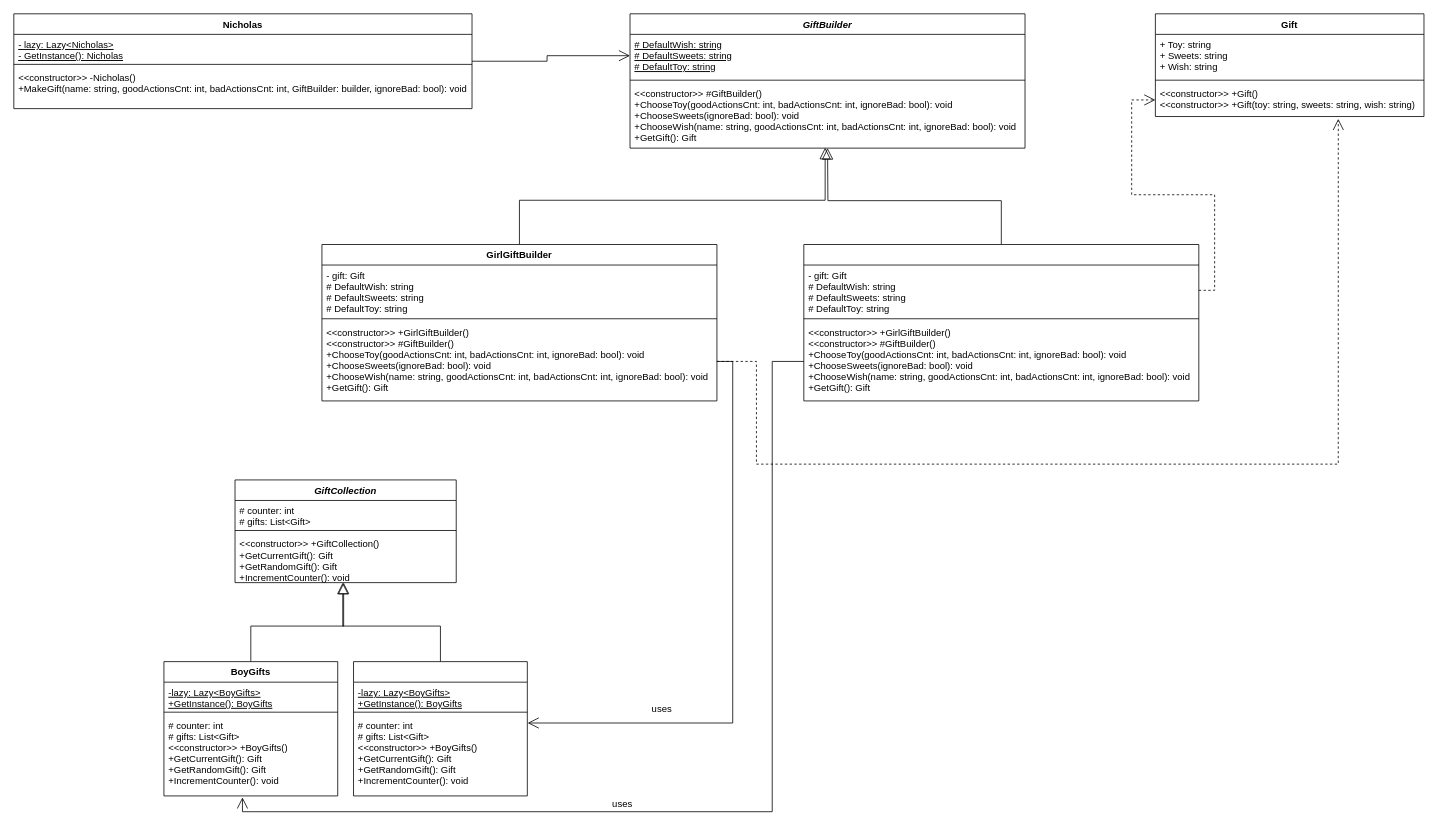
Image size: 1438x837. Some labels were removed from this diagram. The box of each missing label's shape, as (x1, y1, x2, y2) in pixels:
BoyGiftBuilder: (803, 244, 1199, 401)
GirlGifts: (353, 661, 527, 796)
